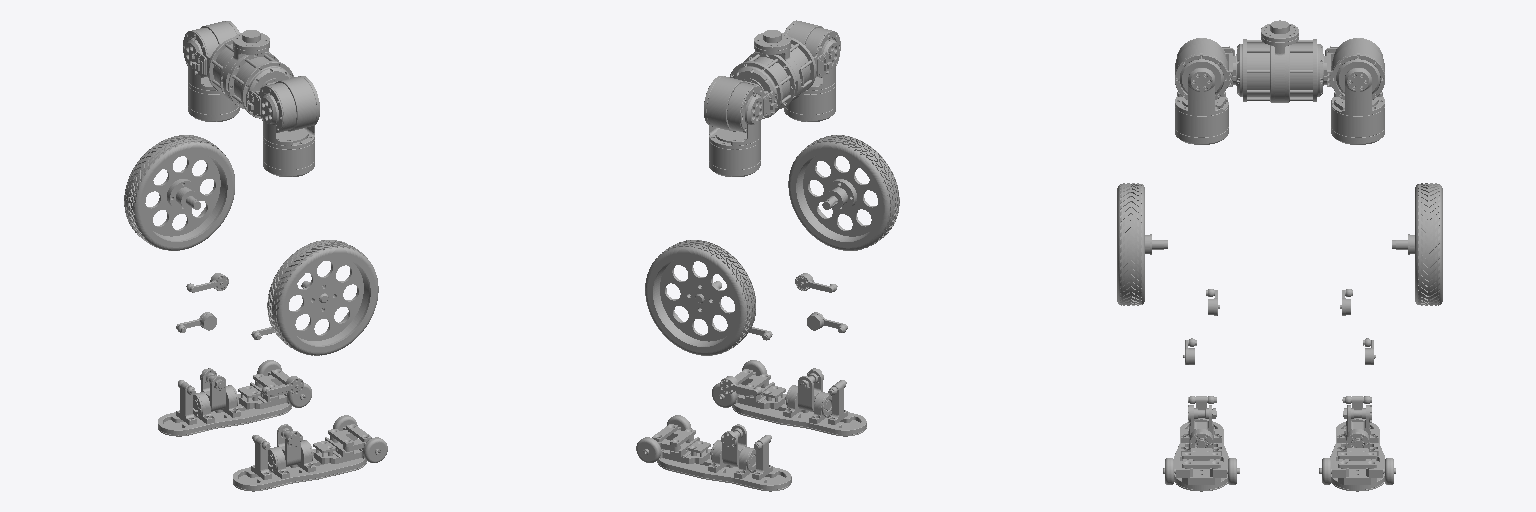
--- Render facts (derived) ---
The picture shows the robot from 3 angles, left to right: view 1: azimuth 30°, elevation 25°; view 2: azimuth 150°, elevation 25°; view 3: azimuth 270°, elevation 25°; orthographic projection.
Model kimm_wheel_legged_robot with 27 links and 26 joints (3 revolute, 6 continuous, 17 fixed), rooted at base_link, posed all joints at 0.
Links seen in each view (by area): view 1: left_wheel, right_wheel, right_foot_link, left_foot_link, right_hip_pitch_link, right_hip_yaw_link, right_hip_roll_link, left_hip_pitch_link, left_hip_yaw_link, pelvis, left_ankle_link, left_hip_roll_link (+1 smaller); view 2: right_wheel, left_wheel, left_foot_link, right_foot_link, left_hip_pitch_link, left_hip_yaw_link, left_hip_roll_link, right_hip_pitch_link, right_hip_yaw_link, pelvis, right_ankle_link, left_ankle_link (+1 smaller); view 3: right_wheel, left_wheel, right_foot_link, left_foot_link, left_hip_pitch_link, right_hip_pitch_link, left_hip_roll_link, right_hip_roll_link, left_hip_yaw_link, right_hip_yaw_link, pelvis, left_ankle_link (+1 smaller).
Link boxes in pixels (x1,y1,x2,y2): left_wheel: (124, 135, 234, 250); right_wheel: (267, 240, 378, 355); right_foot_link: (233, 424, 380, 491); left_foot_link: (158, 369, 305, 436); right_hip_pitch_link: (261, 94, 314, 176); right_hip_yaw_link: (246, 76, 319, 132); right_hip_roll_link: (228, 52, 293, 118); left_hip_pitch_link: (185, 39, 239, 121); left_hip_yaw_link: (183, 21, 239, 77); pelvis: (223, 30, 269, 102); left_ankle_link: (193, 368, 225, 411); left_hip_roll_link: (208, 37, 233, 99); right_wheel: (788, 135, 899, 250); left_wheel: (645, 240, 755, 355); left_foot_link: (643, 424, 791, 491); right_foot_link: (719, 369, 866, 436); left_hip_pitch_link: (709, 94, 762, 176); left_hip_yaw_link: (704, 76, 777, 132); left_hip_roll_link: (730, 52, 795, 118); right_hip_pitch_link: (784, 39, 838, 121); right_hip_yaw_link: (784, 20, 840, 77); pelvis: (754, 30, 800, 101); right_ankle_link: (798, 368, 830, 411); left_ankle_link: (721, 424, 755, 467); right_wheel: (1117, 183, 1167, 305); left_wheel: (1392, 183, 1442, 305); right_foot_link: (1163, 396, 1239, 491); left_foot_link: (1319, 396, 1395, 491); left_hip_pitch_link: (1331, 68, 1384, 144); right_hip_pitch_link: (1175, 68, 1228, 144); left_hip_roll_link: (1285, 39, 1326, 102); right_hip_roll_link: (1233, 39, 1274, 102); left_hip_yaw_link: (1325, 38, 1384, 99); right_hip_yaw_link: (1175, 38, 1234, 99); pelvis: (1261, 20, 1298, 102); left_ankle_link: (1343, 405, 1371, 447).
Size in the robot's own frame: 0.297 by 0.5919 by 0.8619 metres.
21 mesh visuals loaded from 26 distinct referenced files (21 binary STL); not drawn: 5 (reference not matched to a file when rendering).

robot.urdf — kimm_wheel_legged_robot:
<?xml version="1.0"?>
<robot name="kimm_wheel_legged_robot">
  <material name="silver">
    <color rgba="0.700 0.700 0.700 1.000"/>
  </material>

  <link name="base_link"> </link>
  <joint name="base_link_to_pelvis" type="fixed">
    <parent link="base_link"/>
    <child  link="pelvis"/>
    <origin rpy="1.5708 0 -1.5708" xyz="0 0 0"/>
  </joint>

  <!-- Links -->
  <link name="pelvis">
    <inertial>
      <origin xyz="2.1438791285322582e-08 0.04053540705238699 -0.0010758453861736091" rpy="0 0 0"/>
      <mass value="3.813"/>
      <inertia ixx="0.002220" iyy="0.000752" izz="0.001699" ixy="0" ixz="0" iyz="0"/>
    </inertial>
    <visual>
      <origin rpy="0 0 0" xyz="0 0 0"/>
      <geometry>
        <mesh filename="package://kimm_wheel_legged_robot_description/meshes/pelvis.stl" scale="0.001 0.001 0.001"/>
      </geometry>
      <material name="silver"/>
    </visual>
    <collision>
      <origin rpy="0 0 0" xyz="0 0 0"/>
      <geometry>
        <mesh filename="package://kimm_wheel_legged_robot_description/meshes/pelvis.stl" scale="0.001 0.001 0.001"/>
      </geometry>
    </collision>
  </link>
  <link name="torso_link">
    <inertial>
      <origin xyz="0 0.4 0.05" rpy="0 0 0"/>
      <mass value="15.0"/>
      <inertia ixx="0.656" iyy="0.088" izz="0.156" ixy="0.0" ixz="0.0" iyz="0.113"/>
    </inertial>
    <visual>
      <origin rpy="0 0 0" xyz="0.0 -0.0862 -0.0"/>
      <geometry>
        <mesh filename="package://kimm_wheel_legged_robot_description/meshes/torso_link.stl" scale="0.001 0.001 0.001"/>
      </geometry>
      <material name="silver"/>
    </visual>
    <collision>
      <origin rpy="0 0 0" xyz="0.0 -0.0862 -0.0"/>
      <geometry>
        <mesh filename="package://kimm_wheel_legged_robot_description/meshes/torso_link.stl" scale="0.001 0.001 0.001"/>
      </geometry>
    </collision>
  </link>
  <link name="left_hip_roll_link">
    <inertial>
      <origin xyz="-0.03032913107746091 2.474453244607486e-05 -0.0001940144294897979" rpy="0 0 0"/>
      <mass value="1.0"/>
      <inertia ixx="0.001365" iyy="0.001066" izz="0.001076" ixy="0" ixz="0" iyz="0"/>
    </inertial>
    <visual>
      <origin rpy="0 0 0" xyz="0.0093 -0.0 0.0"/>
      <geometry>
        <mesh filename="package://kimm_wheel_legged_robot_description/meshes/left_hip_roll_link.stl" scale="0.001 0.001 0.001"/>
      </geometry>
      <material name="silver"/>
    </visual>
    <collision>
      <origin rpy="0 0 0" xyz="0.0093 -0.0 0.0"/>
      <geometry>
        <mesh filename="package://kimm_wheel_legged_robot_description/meshes/left_hip_roll_link.stl" scale="0.001 0.001 0.001"/>
      </geometry>
    </collision>
  </link>
  <link name="right_hip_roll_link">
    <inertial>
      <origin xyz="0.03032913107746091 2.474453244607486e-05 -0.0001940144294897979" rpy="0 0 0"/>
      <mass value="1.0"/>
      <inertia ixx="0.001365" iyy="0.001066" izz="0.001076" ixy="0" ixz="0" iyz="0"/>
    </inertial>
    <visual>
      <origin rpy="0 0 0" xyz="-0.0093 0.0 -0.0"/>
      <geometry>
        <mesh filename="package://kimm_wheel_legged_robot_description/meshes/right_hip_roll_link.stl" scale="0.001 0.001 0.001"/>
      </geometry>
      <material name="silver"/>
    </visual>
    <collision>
      <origin rpy="0 0 0" xyz="-0.0093 0.0 -0.0"/>
      <geometry>
        <mesh filename="package://kimm_wheel_legged_robot_description/meshes/right_hip_roll_link.stl" scale="0.001 0.001 0.001"/>
      </geometry>
    </collision>
  </link>
  <link name="left_hip_yaw_link">
    <inertial>
      <origin xyz="-0.07390170630152854 9.962373480358716e-05 -0.002378445294013718" rpy="0 0 0"/>
      <mass value="1.0"/>
      <inertia ixx="0.001059" iyy="0.001367" izz="0.001395" ixy="0" ixz="0" iyz="0"/>
    </inertial>
    <visual>
      <origin rpy="0 0 0" xyz="0.06325 0.0 0.0"/>
      <geometry>
        <mesh filename="package://kimm_wheel_legged_robot_description/meshes/left_hip_yaw_link.stl" scale="0.001 0.001 0.001"/>
      </geometry>
      <material name="silver"/>
    </visual>
    <collision>
      <origin rpy="0 0 0" xyz="0.06325 0.0 0.0"/>
      <geometry>
        <mesh filename="package://kimm_wheel_legged_robot_description/meshes/left_hip_yaw_link.stl" scale="0.001 0.001 0.001"/>
      </geometry>
    </collision>
  </link>
  <link name="right_hip_yaw_link">
    <inertial>
      <origin xyz="0.07390170646682584 9.962377136097075e-05 -0.0023784453818592064" rpy="0 0 0"/>
      <mass value="1.0"/>
      <inertia ixx="0.001059" iyy="0.001367" izz="0.001395" ixy="0" ixz="0" iyz="0"/>
    </inertial>
    <visual>
      <origin rpy="0 0 0" xyz="-0.06325 0.0 0.0"/>
      <geometry>
        <mesh filename="package://kimm_wheel_legged_robot_description/meshes/right_hip_yaw_link.stl" scale="0.001 0.001 0.001"/>
      </geometry>
      <material name="silver"/>
    </visual>
    <collision>
      <origin rpy="0 0 0" xyz="-0.06325 0.0 0.0"/>
      <geometry>
        <mesh filename="package://kimm_wheel_legged_robot_description/meshes/right_hip_yaw_link.stl" scale="0.001 0.001 0.001"/>
      </geometry>
    </collision>
  </link>
  <link name="left_hip_pitch_link">
    <inertial>
      <origin xyz="-8.045084226449006e-05 -0.08157488033480476 0.03975673852831995" rpy="0 0 0"/>
      <mass value="1.0"/>
      <inertia ixx="0.001916" iyy="0.001291" izz="0.001703" ixy="0" ixz="0" iyz="0"/>
    </inertial>
    <visual>
      <origin rpy="0 0 0" xyz="0.1424 0.0 0.03875"/>
      <geometry>
        <mesh filename="package://kimm_wheel_legged_robot_description/meshes/left_hip_pitch_link.stl" scale="0.001 0.001 0.001"/>
      </geometry>
      <material name="silver"/>
    </visual>
    <collision>
      <origin rpy="0 0 0" xyz="0.1424 0.0 0.03875"/>
      <geometry>
        <mesh filename="package://kimm_wheel_legged_robot_description/meshes/left_hip_pitch_link.stl" scale="0.001 0.001 0.001"/>
      </geometry>
    </collision>
  </link>
  <link name="right_hip_pitch_link">
    <inertial>
      <origin xyz="8.045084226449006e-05 -0.08157488033480476 0.03975673852831995" rpy="0 0 0"/>
      <mass value="1.0"/>
      <inertia ixx="0.001916" iyy="0.001291" izz="0.001703" ixy="0" ixz="0" iyz="0"/>
    </inertial>
    <visual>
      <origin rpy="0 0 0" xyz="-0.1424 0.0 0.03875"/>
      <geometry>
        <mesh filename="package://kimm_wheel_legged_robot_description/meshes/right_hip_pitch_link.stl" scale="0.001 0.001 0.001"/>
      </geometry>
      <material name="silver"/>
    </visual>
    <collision>
      <origin rpy="0 0 0" xyz="-0.1424 0.0 0.03875"/>
      <geometry>
        <mesh filename="package://kimm_wheel_legged_robot_description/meshes/right_hip_pitch_link.stl" scale="0.001 0.001 0.001"/>
      </geometry>
    </collision>
  </link>
  <link name="left_thigh_wheel_link">
    <inertial>
      <origin xyz="-0.014340044848925454 -0.1505203928999803 0.0003972335107866499" rpy="0 0 0"/>
      <mass value="2.0"/>
      <inertia ixx="0.012183" iyy="0.003498" izz="0.013487" ixy="0" ixz="0" iyz="0"/>
    </inertial>
    <visual>
      <origin rpy="0 0 0" xyz="0.1424 0.11825 -0.0001"/>
      <geometry>
        <mesh filename="package://kimm_wheel_legged_robot_description/meshes/left_thigh_wheel_link.stl" scale="0.001 0.001 0.001"/>
      </geometry>
      <material name="silver"/>
    </visual>
    <collision>
      <origin rpy="0 0 0" xyz="0.1424 0.11825 -0.0001"/>
      <geometry>
        <mesh filename="package://kimm_wheel_legged_robot_description/meshes/left_thigh_wheel_link.stl" scale="0.001 0.001 0.001"/>
      </geometry>
    </collision>
  </link>
  <link name="right_thigh_wheel_link">
    <inertial>
      <origin xyz="0.014340044848925454 -0.1505203928999803 0.0003972335107866499" rpy="0 0 0"/>
      <mass value="2.0"/>
      <inertia ixx="0.012183" iyy="0.003498" izz="0.013487" ixy="0" ixz="0" iyz="0"/>
    </inertial>
    <visual>
      <origin rpy="0 0 0" xyz="-0.1424 0.11825 -0.0001"/>
      <geometry>
        <mesh filename="package://kimm_wheel_legged_robot_description/meshes/right_thigh_wheel_link.stl" scale="0.001 0.001 0.001"/>
      </geometry>
      <material name="silver"/>
    </visual>
    <collision>
      <origin rpy="0 0 0" xyz="-0.1424 0.11825 -0.0001"/>
      <geometry>
        <mesh filename="package://kimm_wheel_legged_robot_description/meshes/right_thigh_wheel_link.stl" scale="0.001 0.001 0.001"/>
      </geometry>
    </collision>
  </link>
  <link name="right_wheel">
    <inertial>
      <origin xyz="0.06356997620942698 -5.012545836596827e-05 -5.327760995034731e-05" rpy="0 0 0"/>
      <mass value="1.2"/>
      <inertia ixx="0.010303" iyy="0.005390" izz="0.005390" ixy="0" ixz="0" iyz="0"/>
    </inertial>
    <visual>
      <origin rpy="0 0 0" xyz="-0.2059 0.3499 -0.0001"/>
      <geometry>
        <mesh filename="package://kimm_wheel_legged_robot_description/meshes/right_wheel.stl" scale="0.001 0.001 0.001"/>
      </geometry>
      <material name="silver"/>
    </visual>
    <collision>
      <origin rpy="0 0 0" xyz="-0.2059 0.3499 -0.0001"/>
      <geometry>
        <mesh filename="package://kimm_wheel_legged_robot_description/meshes/right_wheel.stl" scale="0.001 0.001 0.001"/>
      </geometry>
      <surface>
        <friction>
          <ode>
            <mu>2.0</mu>       
            <mu2>0.8</mu2>      
            <slip1>0.0</slip1>  
            <slip2>0.01</slip2> 
          </ode>
          <fdir1>1 0 0</fdir1>  
        </friction>
        <contact>
          <ode>
            <kp>1000000</kp>
            <kd>1000</kd>
            <max_vel>0.2</max_vel>
            <min_depth>0.001</min_depth>
          </ode>
        </contact>
      </surface>
    </collision>
  </link>
  <link name="left_wheel">
    <inertial>
      <origin xyz="-0.06356997620942698 -5.012545836596827e-05 -5.327760995034731e-05" rpy="0 0 0"/>
      <mass value="1.2"/>
      <inertia ixx="0.010303" iyy="0.005390" izz="0.005390" ixy="0" ixz="0" iyz="0"/>
    </inertial>
    <visual>
      <origin rpy="0 0 0" xyz="0.2059 0.3499 -0.0001"/>
      <geometry>
        <mesh filename="package://kimm_wheel_legged_robot_description/meshes/left_wheel.stl" scale="0.001 0.001 0.001"/>
      </geometry>
      <material name="silver"/>
    </visual>
    <collision>
      <origin rpy="0 0 0" xyz="0.2059 0.3499 -0.0001"/>
      <geometry>
        <mesh filename="package://kimm_wheel_legged_robot_description/meshes/left_wheel.stl" scale="0.001 0.001 0.001"/>
      </geometry>
      <surface>
        <friction>
          <ode>
            <mu>2.0</mu>        
            <mu2>0.8</mu2>      
            <slip1>0.0</slip1> 
            <slip2>0.01</slip2> 
          </ode>
          <fdir1>1 0 0</fdir1>  
        </friction>
        <contact>
          <ode>
            <kp>1000000</kp>
            <kd>1000</kd>
            <max_vel>0.2</max_vel>
            <min_depth>0.001</min_depth>
          </ode>
        </contact>
      </surface>
    </collision>
  </link>
  <link name="left_knee_link">
    <inertial>
      <origin xyz="0.036971405273357655 -0.1660300623645894 -0.0013928710078339604" rpy="0 0 0"/>
      <mass value="3.0"/>
      <inertia ixx="0.021818" iyy="0.002375" izz="0.021750" ixy="0" ixz="0" iyz="0"/>
    </inertial>
    <visual>
      <origin rpy="0 0 0" xyz="0.17915 0.3499 -0.0001"/>
      <geometry>
        <mesh filename="package://kimm_wheel_legged_robot_description/meshes/left_knee_link.stl" scale="0.001 0.001 0.001"/>
      </geometry>
      <material name="silver"/>
    </visual>
    <collision>
      <origin rpy="0 0 0" xyz="0.17915 0.3499 -0.0001"/>
      <geometry>
        <mesh filename="package://kimm_wheel_legged_robot_description/meshes/left_knee_link.stl" scale="0.001 0.001 0.001"/>
      </geometry>
    </collision>
  </link>
  <link name="right_knee_link">
    <inertial>
      <origin xyz="-0.036971405273357655 -0.1660300623645894 -0.0013928710078339604" rpy="0 0 0"/>
      <mass value="3.0"/>
      <inertia ixx="0.021818" iyy="0.002375" izz="0.021750" ixy="0" ixz="0" iyz="0"/>
    </inertial>
    <visual>
      <origin rpy="0 0 0" xyz="-0.17915 0.3499 -0.0001"/>
      <geometry>
        <mesh filename="package://kimm_wheel_legged_robot_description/meshes/right_knee_link.stl" scale="0.001 0.001 0.001"/>
      </geometry>
      <material name="silver"/>
    </visual>
    <collision>
      <origin rpy="0 0 0" xyz="-0.17915 0.3499 -0.0001"/>
      <geometry>
        <mesh filename="package://kimm_wheel_legged_robot_description/meshes/right_knee_link.stl" scale="0.001 0.001 0.001"/>
      </geometry>
    </collision>
  </link>
  <link name="left_long_tendon_connector_link">
    <inertial>
      <origin rpy="0 0 0" xyz="-0.00010680393854881065 -5.000460617443636e-05 0.029010127435682105"/>
      <mass value="0.04250175844733602"/>
      <inertia ixx="3.6e-05" ixy="0.0" ixz="3e-06" iyy="3.6e-05" iyz="-0.0" izz="3e-06"/>
    </inertial>
    <visual>
      <origin rpy="0 0 0" xyz="0.120775 0.4749 -0.0001"/>
      <geometry>
        <mesh filename="package://kimm_wheel_legged_robot_description/meshes/left_long_tendon_connector_link.stl" scale="0.001 0.001 0.001"/>
      </geometry>
      <material name="silver"/>
    </visual>
    <collision>
      <origin rpy="0 0 0" xyz="0.120775 0.4749 -0.0001"/>
      <geometry>
        <mesh filename="package://kimm_wheel_legged_robot_description/meshes/left_long_tendon_connector_link.stl" scale="0.001 0.001 0.001"/>
      </geometry>
    </collision>
  </link>
  <link name="right_long_tendon_connector_link">
    <inertial>
      <origin rpy="0 0 0" xyz="0.00010680393854881065 -5.000460617443636e-05 0.029010127435682105"/>
      <mass value="0.04250175844733602"/>
      <inertia ixx="3.6e-05" ixy="-0.0" ixz="-3e-06" iyy="3.6e-05" iyz="-0.0" izz="3e-06"/>
    </inertial>
    <visual>
      <origin rpy="0 0 0" xyz="-0.120775 0.4749 -0.0001"/>
      <geometry>
        <mesh filename="package://kimm_wheel_legged_robot_description/meshes/right_long_tendon_connector_link.stl" scale="0.001 0.001 0.001"/>
      </geometry>
      <material name="silver"/>
    </visual>
    <collision>
      <origin rpy="0 0 0" xyz="-0.120775 0.4749 -0.0001"/>
      <geometry>
        <mesh filename="package://kimm_wheel_legged_robot_description/meshes/right_long_tendon_connector_link.stl" scale="0.001 0.001 0.001"/>
      </geometry>
    </collision>
  </link>
  <link name="right_short_tendon_connector_link">
    <inertial>
      <origin rpy="0 0 0" xyz="-0.00020680393818853227 -5.0034572285473367e-05 0.029010127448811252"/>
      <mass value="0.04250175844733602"/>
      <inertia ixx="3.6e-05" ixy="-0.0" ixz="3e-06" iyy="3.6e-05" iyz="0.0" izz="3e-06"/>
    </inertial>
    <visual>
      <origin rpy="0 0 0" xyz="-0.163825 0.5749 -0.0001"/>
      <geometry>
        <mesh filename="package://kimm_wheel_legged_robot_description/meshes/right_short_tendon_connector_link.stl" scale="0.001 0.001 0.001"/>
      </geometry>
      <material name="silver"/>
    </visual>
    <collision>
      <origin rpy="0 0 0" xyz="-0.163825 0.5749 -0.0001"/>
      <geometry>
        <mesh filename="package://kimm_wheel_legged_robot_description/meshes/right_short_tendon_connector_link.stl" scale="0.001 0.001 0.001"/>
      </geometry>
    </collision>
  </link>
  <link name="left_short_tendon_connector_link">
    <inertial>
      <origin rpy="0 0 0" xyz="0.00020680393818853227 -5.0034572285473367e-05 0.029010127448811252"/>
      <mass value="0.04250175844733602"/>
      <inertia ixx="3.6e-05" ixy="0.0" ixz="-3e-06" iyy="3.6e-05" iyz="0.0" izz="3e-06"/>
    </inertial>
    <visual>
      <origin rpy="0 0 0" xyz="0.163825 0.5749 -0.0001"/>
      <geometry>
        <mesh filename="package://kimm_wheel_legged_robot_description/meshes/left_short_tendon_connector_link.stl" scale="0.001 0.001 0.001"/>
      </geometry>
      <material name="silver"/>
    </visual>
    <collision>
      <origin rpy="0 0 0" xyz="0.163825 0.5749 -0.0001"/>
      <geometry>
        <mesh filename="package://kimm_wheel_legged_robot_description/meshes/left_short_tendon_connector_link.stl" scale="0.001 0.001 0.001"/>
      </geometry>
    </collision>
  </link>
  <!-- <link name="left_long_tendon_link">
    <inertial>
      <origin rpy="0 0 0" xyz="0.000845101234486112 -0.1074953852625069 0.005010650318331443"/>
      <mass value="0.08788014524255652"/>
      <inertia ixx="0.000509" ixy="-0.0" ixz="-0.0" iyy="4e-06" iyz="0.0" izz="0.000506"/>
    </inertial>
    <visual>
      <origin rpy="0 0 0" xyz="0.125225 0.47495 -0.06005"/>
      <geometry>
        <mesh filename="package://kimm_wheel_legged_robot_description/meshes/left_long_tendon_link.stl" scale="0.001 0.001 0.001"/>
      </geometry>
      <material name="silver"/>
    </visual>
    <collision>
      <origin rpy="0 0 0" xyz="0.125225 0.47495 -0.06005"/>
      <geometry>
        <mesh filename="package://kimm_wheel_legged_robot_description/meshes/left_long_tendon_link.stl" scale="0.001 0.001 0.001"/>
      </geometry>
    </collision>
  </link>
  <link name="right_long_tendon_link">
    <inertial>
      <origin rpy="0 0 0" xyz="-0.0008451012337903491 -0.1074999997162378 0.0049106498049805505"/>
      <mass value="0.08788014524255647"/>
      <inertia ixx="0.000509" ixy="0.0" ixz="0.0" iyy="4e-06" iyz="0.0" izz="0.000506"/>
    </inertial>
    <visual>
      <origin rpy="0 0 0" xyz="-0.125725 0.47495 -0.06005"/>
      <geometry>
        <mesh filename="package://kimm_wheel_legged_robot_description/meshes/right_long_tendon_link.stl" scale="0.001 0.001 0.001"/>
      </geometry>
      <material name="silver"/>
    </visual>
    <collision>
      <origin rpy="0 0 0" xyz="-0.125725 0.47495 -0.06005"/>
      <geometry>
        <mesh filename="package://kimm_wheel_legged_robot_description/meshes/right_long_tendon_link.stl" scale="0.001 0.001 0.001"/>
      </geometry>
    </collision>
  </link>
  <link name="left_short_tendon_link">
    <inertial>
      <origin rpy="0 0 0" xyz="-0.0006571868771749478 -0.057493469589509294 0.003851352991315761"/>
      <mass value="0.05651964524229545"/>
      <inertia ixx="0.000116" ixy="0.0" ixz="0.0" iyy="3e-06" iyz="0.0" izz="0.000113"/>
    </inertial>
    <visual>
      <origin rpy="0 0 0" xyz="0.159275 0.57495 -0.06005"/>
      <geometry>
        <mesh filename="package://kimm_wheel_legged_robot_description/meshes/left_short_tendon_link.stl" scale="0.001 0.001 0.001"/>
      </geometry>
      <material name="silver"/>
    </visual>
    <collision>
      <origin rpy="0 0 0" xyz="0.159275 0.57495 -0.06005"/>
      <geometry>
        <mesh filename="package://kimm_wheel_legged_robot_description/meshes/left_short_tendon_link.stl" scale="0.001 0.001 0.001"/>
      </geometry>
    </collision>
  </link>
  <link name="right_short_tendon_link">
    <inertial>
      <origin rpy="0 0 0" xyz="0.0006571868769024436 -0.057500000104569904 0.003751363801314543"/>
      <mass value="0.056519645242295566"/>
      <inertia ixx="0.000116" ixy="0.0" ixz="-0.0" iyy="3e-06" iyz="-0.0" izz="0.000113"/>
    </inertial>
    <visual>
      <origin rpy="0 0 0" xyz="-0.159775 0.57495 -0.06005"/>
      <geometry>
        <mesh filename="package://kimm_wheel_legged_robot_description/meshes/right_short_tendon_link.stl" scale="0.001 0.001 0.001"/>
      </geometry>
      <material name="silver"/>
    </visual>
    <collision>
      <origin rpy="0 0 0" xyz="-0.159775 0.57495 -0.06005"/>
      <geometry>
        <mesh filename="package://kimm_wheel_legged_robot_description/meshes/right_short_tendon_link.stl" scale="0.001 0.001 0.001"/>
      </geometry>
    </collision>
  </link> -->
  <link name="left_ankle_link">
    <inertial>
      <origin xyz="-0.0011302779004623842 -0.028286432395680183 0.0002742690928544198" rpy="0 0 0"/>
      <mass value="0.3"/>
      <inertia ixx="0.000175" iyy="0.000100" izz="0.000170" ixy="0" ixz="0" iyz="0"/>
    </inertial>
    <visual>
      <origin rpy="0 0 0" xyz="0.142 0.6899 -0.0001"/>
      <geometry>
        <mesh filename="package://kimm_wheel_legged_robot_description/meshes/left_ankle_link.stl" scale="0.001 0.001 0.001"/>
      </geometry>
      <material name="silver"/>
    </visual>
    <collision>
      <origin rpy="0 0 0" xyz="0.142 0.6899 -0.0001"/>
      <geometry>
        <mesh filename="package://kimm_wheel_legged_robot_description/meshes/left_ankle_link.stl" scale="0.001 0.001 0.001"/>
      </geometry>
    </collision>
  </link>
  <link name="right_ankle_link">
    <inertial>
      <origin xyz="0.0011302779004623842 -0.028286432395680183 0.0002742690928544198" rpy="0 0 0"/>
      <mass value="0.3"/>
      <inertia ixx="0.000175" iyy="0.000100" izz="0.000170" ixy="0" ixz="0" iyz="0"/>
    </inertial>
    <visual>
      <origin rpy="0 0 0" xyz="-0.142 0.6899 -0.0001"/>
      <geometry>
        <mesh filename="package://kimm_wheel_legged_robot_description/meshes/right_ankle_link.stl" scale="0.001 0.001 0.001"/>
      </geometry>
      <material name="silver"/>
    </visual>
    <collision>
      <origin rpy="0 0 0" xyz="-0.142 0.6899 -0.0001"/>
      <geometry>
        <mesh filename="package://kimm_wheel_legged_robot_description/meshes/right_ankle_link.stl" scale="0.001 0.001 0.001"/>
      </geometry>
    </collision>
  </link>
  <link name="left_foot_link">
    <inertial>
      <origin xyz="0.00030186809290255745 -0.013615460418342384 -0.04357678195278175" rpy="0 0 0"/>
      <mass value="0.6"/>
      <inertia ixx="0.004026" iyy="0.004097" izz="0.000548" ixy="0" ixz="0" iyz="0"/>
    </inertial>
    <visual>
      <origin rpy="0 0 0" xyz="0.143 0.7319 0.0"/>
      <geometry>
        <mesh filename="package://kimm_wheel_legged_robot_description/meshes/left_foot_link.stl" scale="0.001 0.001 0.001"/>
      </geometry>
      <material name="silver"/>
    </visual>
    <collision>
      <origin rpy="0 0 0" xyz="0.142 0.7319 -0.0"/>
      <geometry>
        <mesh filename="package://kimm_wheel_legged_robot_description/meshes/left_foot_link.stl" scale="0.001 0.001 0.001"/>
      </geometry>
    </collision>
  </link>
  <link name="right_foot_link">
    <inertial>
      <origin xyz="-0.00030186809290255745 -0.013615460418342384 -0.04357678195278175" rpy="0 0 0"/>
      <mass value="0.6"/>
      <inertia ixx="0.004026" iyy="0.004097" izz="0.000548" ixy="0" ixz="0" iyz="0"/>
    </inertial>
    <visual>
      <origin rpy="0 0 0" xyz="-0.143 0.7319 0.0"/>
      <geometry>
        <mesh filename="package://kimm_wheel_legged_robot_description/meshes/right_foot_link.stl" scale="0.001 0.001 0.001"/>
      </geometry>
      <material name="silver"/>
    </visual>
    <collision>
      <origin rpy="0 0 0" xyz="-0.143 0.7319 0.0"/>
      <geometry>
        <mesh filename="package://kimm_wheel_legged_robot_description/meshes/right_foot_link.stl" scale="0.001 0.001 0.001"/>
      </geometry>
    </collision>
  </link>
  <link name="left_foot_wheel_L">
    <inertial>
      <origin xyz="-0.0027500000004113956 -5.023919830760004e-05 -0.0002499336757649795" rpy="0 0 0"/>
      <mass value="0.15"/>
      <inertia ixx="0.000045" iyy="0.000025" izz="0.000025" ixy="0" ixz="0" iyz="0"/>
    </inertial>
    <visual>
      <origin rpy="0 0 0" xyz="0.19675 0.7328 0.154475"/>
      <geometry>
        <mesh filename="package://kimm_wheel_legged_robot_description/meshes/left_foot_wheel_L.stl" scale="0.001 0.001 0.001"/>
      </geometry>
      <material name="silver"/>
    </visual>
    <collision>
      <origin rpy="0 0 0" xyz="0.19675 0.7328 0.154475"/>
      <geometry>
        <mesh filename="package://kimm_wheel_legged_robot_description/meshes/left_foot_wheel_L.stl" scale="0.001 0.001 0.001"/>
      </geometry>
      <surface>
        <friction>
          <ode>
            <mu>1.0</mu>
            <mu2>1.0</mu2>
          </ode>
        </friction>
      </surface>
    </collision>
  </link>
  <link name="right_foot_wheel_R">
    <inertial>
      <origin xyz="0.0027500000004113956 -5.023919830760004e-05 -0.0002499336757649795" rpy="0 0 0"/>
      <mass value="0.15"/>
      <inertia ixx="0.000045" iyy="0.000025" izz="0.000025" ixy="0" ixz="0" iyz="0"/>
    </inertial>
    <visual>
      <origin rpy="0 0 0" xyz="-0.19675 0.7328 0.154475"/>
      <geometry>
        <mesh filename="package://kimm_wheel_legged_robot_description/meshes/right_foot_wheel_R.stl" scale="0.001 0.001 0.001"/>
      </geometry>
      <material name="silver"/>
    </visual>
    <collision>
      <origin rpy="0 0 0" xyz="-0.19675 0.7328 0.154475"/>
      <geometry>
        <mesh filename="package://kimm_wheel_legged_robot_description/meshes/right_foot_wheel_R.stl" scale="0.001 0.001 0.001"/>
      </geometry>
      <surface>
        <friction>
          <ode>
            <mu>1.0</mu>
            <mu2>1.0</mu2>
          </ode>
        </friction>
      </surface>
    </collision>
  </link>
  <link name="left_foot_wheel_R">
    <inertial>
      <origin xyz="0.0022499999995878595 -5.023919831903534e-05 -0.0002499336758523818" rpy="0 0 0"/>
      <mass value="0.15"/>
      <inertia ixx="0.000045" iyy="0.000025" izz="0.000025" ixy="0" ixz="0" iyz="0"/>
    </inertial>
    <visual>
      <origin rpy="0 0 0" xyz="0.08725 0.7328 0.154475"/>
      <geometry>
        <mesh filename="package://kimm_wheel_legged_robot_description/meshes/left_foot_wheel_R.stl" scale="0.001 0.001 0.001"/>
      </geometry>
      <material name="silver"/>
    </visual>
    <collision>
      <origin rpy="0 0 0" xyz="0.08725 0.7328 0.154475"/>
      <geometry>
        <mesh filename="package://kimm_wheel_legged_robot_description/meshes/left_foot_wheel_R.stl" scale="0.001 0.001 0.001"/>
      </geometry>
      <surface>
        <friction>
          <ode>
            <mu>1.0</mu>
            <mu2>1.0</mu2>
          </ode>
        </friction>
      </surface>
    </collision>
  </link>
  <link name="right_foot_wheel_L">
    <inertial>
      <origin xyz="-0.0022499999995878595 -5.023919831903534e-05 -0.0002499336758523818" rpy="0 0 0"/>
      <mass value="0.15"/>
      <inertia ixx="0.000045" iyy="0.000025" izz="0.000025" ixy="0" ixz="0" iyz="0"/>
    </inertial>
    <visual>
      <origin rpy="0 0 0" xyz="-0.08725 0.7328 0.154475"/>
      <geometry>
        <mesh filename="package://kimm_wheel_legged_robot_description/meshes/right_foot_wheel_L.stl" scale="0.001 0.001 0.001"/>
      </geometry>
      <material name="silver"/>
    </visual>
    <collision>
      <origin rpy="0 0 0" xyz="-0.08725 0.7328 0.154475"/>
      <geometry>
        <mesh filename="package://kimm_wheel_legged_robot_description/meshes/right_foot_wheel_L.stl" scale="0.001 0.001 0.001"/>
      </geometry>
    </collision>
  </link>
  <!-- Joints -->
  <joint name="left_pelvis_joint" type="fixed">
    <origin rpy="0 0 0" xyz="-0.0093 0.0 0.0"/>
    <parent link="pelvis"/>
    <child link="left_hip_roll_link"/>
  </joint>
  <joint name="right_pelvis_joint" type="fixed">
    <origin rpy="0 0 0" xyz="0.0093 0.0 0.0"/>
    <parent link="pelvis"/>
    <child link="right_hip_roll_link"/>
  </joint>
  <joint name="torso_joint" type="revolute">
    <origin rpy="0 0 0" xyz="0.0 0.0862 0.0"/>
    <parent link="pelvis"/>
    <child link="torso_link"/>
    <axis xyz="-0.0 -1.0 0.0"/>
    <limit effort="120" lower="-3.141593" upper="3.141593" velocity="5.02"/>
  </joint>
  <joint name="left_hip_roll_joint" type="fixed">
    <origin rpy="0 0 0" xyz="-0.05395 -0.0 0.0"/>
    <parent link="left_hip_roll_link"/>
    <child link="left_hip_yaw_link"/>
    <axis xyz="-1.0 0.0 0.0"/>
    <limit effort="120" lower="-1.919862" upper="1.919862" velocity="5.02"/>
  </joint>
  <joint name="right_hip_roll_joint" type="fixed">
    <origin rpy="0 0 0" xyz="0.05395 0.0 -0.0"/>
    <parent link="right_hip_roll_link"/>
    <child link="right_hip_yaw_link"/>
    <axis xyz="1.0 -0.0 -0.0"/>
    <limit effort="120" lower="-1.919862" upper="1.919862" velocity="5.02"/>
  </joint>
  <joint name="left_hip_yaw_joint" type="fixed">
    <origin rpy="0 0 0" xyz="-0.07915 0.0 -0.03875"/>
    <parent link="left_hip_yaw_link"/>
    <child link="left_hip_pitch_link"/>
    <axis xyz="0.0 -0.0 -1.0"/>
    <limit effort="120" lower="-0.261799" upper="1.570796" velocity="5.02"/>
  </joint>
  <joint name="right_hip_yaw_joint" type="fixed">
    <origin rpy="0 0 0" xyz="0.07915 0.0 -0.03875"/>
    <parent link="right_hip_yaw_link"/>
    <child link="right_hip_pitch_link"/>
    <axis xyz="0.0 0.0 1.0"/>
    <limit effort="120" lower="-0.261799" upper="1.570796" velocity="5.02"/>
  </joint>
  <joint name="left_hip_pitch_joint" type="fixed">
    <origin rpy="0 0 0" xyz="0.0 -0.11825 0.03885"/>
    <parent link="left_hip_pitch_link"/>
    <child link="left_thigh_wheel_link"/>
    <axis xyz="-0.0 -1.0 -0.0"/>
    <limit effort="120" lower="-1.570796" upper="1.570796" velocity="5.02"/>
  </joint>
  <joint name="right_hip_pitch_joint" type="fixed">
    <origin rpy="0 0 0" xyz="0.0 -0.11825 0.03885"/>
    <parent link="right_hip_pitch_link"/>
    <child link="right_thigh_wheel_link"/>
    <axis xyz="0.0 1.0 0.0"/>
    <limit effort="120" lower="-1.570796" upper="1.570796" velocity="5.02"/>
  </joint>
  <joint name="left_wheel_joint" type="continuous">
    <origin rpy="0 0 0" xyz="-0.0635 -0.23165 0.0"/>
    <parent link="left_thigh_wheel_link"/>
    <child link="left_wheel"/>
    <axis xyz="-1.0 -0.0 -0.0"/>
    <limit effort="120" velocity="5.02"/>
  </joint>
  <joint name="right_wheel_joint" type="continuous">
    <origin rpy="0 0 0" xyz="0.0635 -0.23165 0.0"/>
    <parent link="right_thigh_wheel_link"/>
    <child link="right_wheel"/>
    <axis xyz="-1.0 -0.0 -0.0"/>
    <limit effort="120" velocity="5.02"/>
  </joint>
  <joint name="left_knee_joint" type="revolute">
    <origin rpy="0.0 0 0" xyz="-0.03925 -0.23165 0.0"/>
    <parent link="left_thigh_wheel_link"/>
    <child link="left_knee_link"/>
    <axis xyz="-1.0 0.0 0.0"/>
    <limit effort="120" lower="-0.1" upper="2.1" velocity="5.02"/>
  </joint>
  <joint name="right_knee_joint" type="revolute">
    <origin rpy="0.0 0 0" xyz="0.03675 -0.23165 0.0"/>
    <parent link="right_thigh_wheel_link"/>
    <child link="right_knee_link"/>
    <axis xyz="1.0 0.0 -0.0"/>
    <limit effort="120" lower="-2.1" upper="0.1" velocity="5.02"/>
  </joint>
  <joint name="left_ankle_pitch_joint" type="fixed">
    <origin rpy="0 0 0" xyz="0.03965 -0.34 0.0"/>
    <parent link="left_knee_link"/>
    <child link="left_ankle_link"/>
    <axis xyz="1.0 -0.0 -0.0"/>
    <limit effort="24.8" lower="-0.523598" upper="0.523598" velocity="10.8"/>
  </joint>
  <joint name="right_ankle_pitch_joint" type="fixed">
    <origin rpy="0 0 0" xyz="-0.03715 -0.34 0.0"/>
    <parent link="right_knee_link"/>
    <child link="right_ankle_link"/>
    <axis xyz="1.0 0.0 0.0"/>
    <limit effort="24.8" lower="-0.523598" upper="0.523598" velocity="10.8"/>
  </joint>
  <joint name="left_ankle_roll_joint" type="fixed">
    <origin rpy="0 0 0" xyz="0.0 -0.042 -0.0001"/>
    <parent link="left_ankle_link"/>
    <child link="left_foot_link"/>
    <axis xyz="-0.0 -2e-06 -1.0"/>
    <limit effort="24.8" lower="-0.523598" upper="0.523598" velocity="10.8"/>
  </joint>
  <joint name="right_ankle_roll_joint" type="fixed">
    <origin rpy="0 0 0" xyz="0.001 -0.042 -0.0001"/>
    <parent link="right_ankle_link"/>
    <child link="right_foot_link"/>
    <axis xyz="0.0 0.0 1.0"/>
    <limit effort="24.8" lower="-0.523598" upper="0.523598" velocity="10.8"/>
  </joint>
  <joint name="left_foot_wheel_L_joint" type="continuous">
    <origin rpy="0 0 0" xyz="-0.05475 -0.0009 -0.154475"/>
    <parent link="left_foot_link"/>
    <child link="left_foot_wheel_L"/>
    <axis xyz="1.0 -0.0 -0.0"/>
  </joint>
  <joint name="right_foot_wheel_R_joint" type="continuous">
    <origin rpy="0 0 0" xyz="0.05475 -0.0009 -0.154475"/>
    <parent link="right_foot_link"/>
    <child link="right_foot_wheel_R"/>
    <axis xyz="-1.0 0.0 -0.0"/>
  </joint>
  <joint name="left_foot_wheel_R_joint" type="continuous">
    <origin rpy="0 0 0" xyz="0.05475 -0.0009 -0.154475"/>
    <parent link="left_foot_link"/>
    <child link="left_foot_wheel_R"/>
    <axis xyz="-1.0 0.0 0.0"/>
  </joint>
  <joint name="right_foot_wheel_L_joint" type="continuous">
    <origin rpy="0 0 0" xyz="-0.05475 -0.0009 -0.154475"/>
    <parent link="right_foot_link"/>
    <child link="right_foot_wheel_L"/>
    <axis xyz="1.0 -0.0 0.0"/>
  </joint>
  <joint name="left_long_tendon_connector_joint" type="fixed">
    <origin rpy="0 0 0" xyz="0.060875 -0.125 0.0"/>
    <parent link="left_knee_link"/>
    <child link="left_long_tendon_connector_link"/>
    <axis xyz="1.0 -0.0 -0.0"/>
    <limit effort="24.8" lower="-0.523599" upper="0.523599" velocity="10.8"/>
  </joint>
  <joint name="right_long_tendon_connector_joint" type="fixed">
    <origin rpy="0 0 0" xyz="-0.058375 -0.125 0.0"/>
    <parent link="right_knee_link"/>
    <child link="right_long_tendon_connector_link"/>
    <axis xyz="-1.0 -0.0 0.0"/>
    <limit effort="24.8" lower="-0.523599" upper="0.523599" velocity="10.8"/>
  </joint>
  <joint name="left_short_tendon_connector_joint" type="fixed">
    <origin rpy="0 0 0" xyz="0.017825 -0.225 0.0"/>
    <parent link="left_knee_link"/>
    <child link="left_short_tendon_connector_link"/>
    <axis xyz="-1.0 -0.0 0.0"/>
    <limit effort="24.8" lower="-0.523599" upper="0.523599" velocity="10.8"/>
  </joint>
  <joint name="right_short_tendon_connector_joint" type="fixed">
    <origin rpy="0 0 0" xyz="-0.015325 -0.225 0.0"/>
    <parent link="right_knee_link"/>
    <child link="right_short_tendon_connector_link"/>
    <axis xyz="1.0 0.0 -0.0"/>
    <limit effort="24.8" lower="-0.523599" upper="0.523599" velocity="10.8"/>
  </joint>
  <!-- <joint name="left_long_tendon_upper_joint" type="continuous">
    <origin rpy="0 0 0" xyz="-0.00445 -5e-05 0.05995"/>
    <parent link="left_long_tendon_connector_link"/>
    <child link="left_long_tendon_link"/>
    <axis xyz="1.0 0.0 0.0"/>
  </joint>
  <joint name="right_long_tendon_upper_joint" type="continuous">
    <origin rpy="0 0 0" xyz="0.00495 -5e-05 0.05995"/>
    <parent link="right_long_tendon_connector_link"/>
    <child link="right_long_tendon_link"/>
    <axis xyz="1.0 0.0 -0.0"/>
  </joint>
  <joint name="left_short_tendon_upper_joint" type="continuous">
    <origin rpy="0 0 0" xyz="0.00455 -5e-05 0.05995"/>
    <parent link="left_short_tendon_connector_link"/>
    <child link="left_short_tendon_link"/>
    <axis xyz="1.0 -0.0 -0.0"/>
  </joint>
  <joint name="right_short_tendon_upper_joint" type="continuous">
    <origin rpy="0 0 0" xyz="-0.00405 -5e-05 0.05995"/>
    <parent link="right_short_tendon_connector_link"/>
    <child link="right_short_tendon_link"/>
    <axis xyz="1.0 0.0 -0.0"/>
  </joint> -->
</robot>
